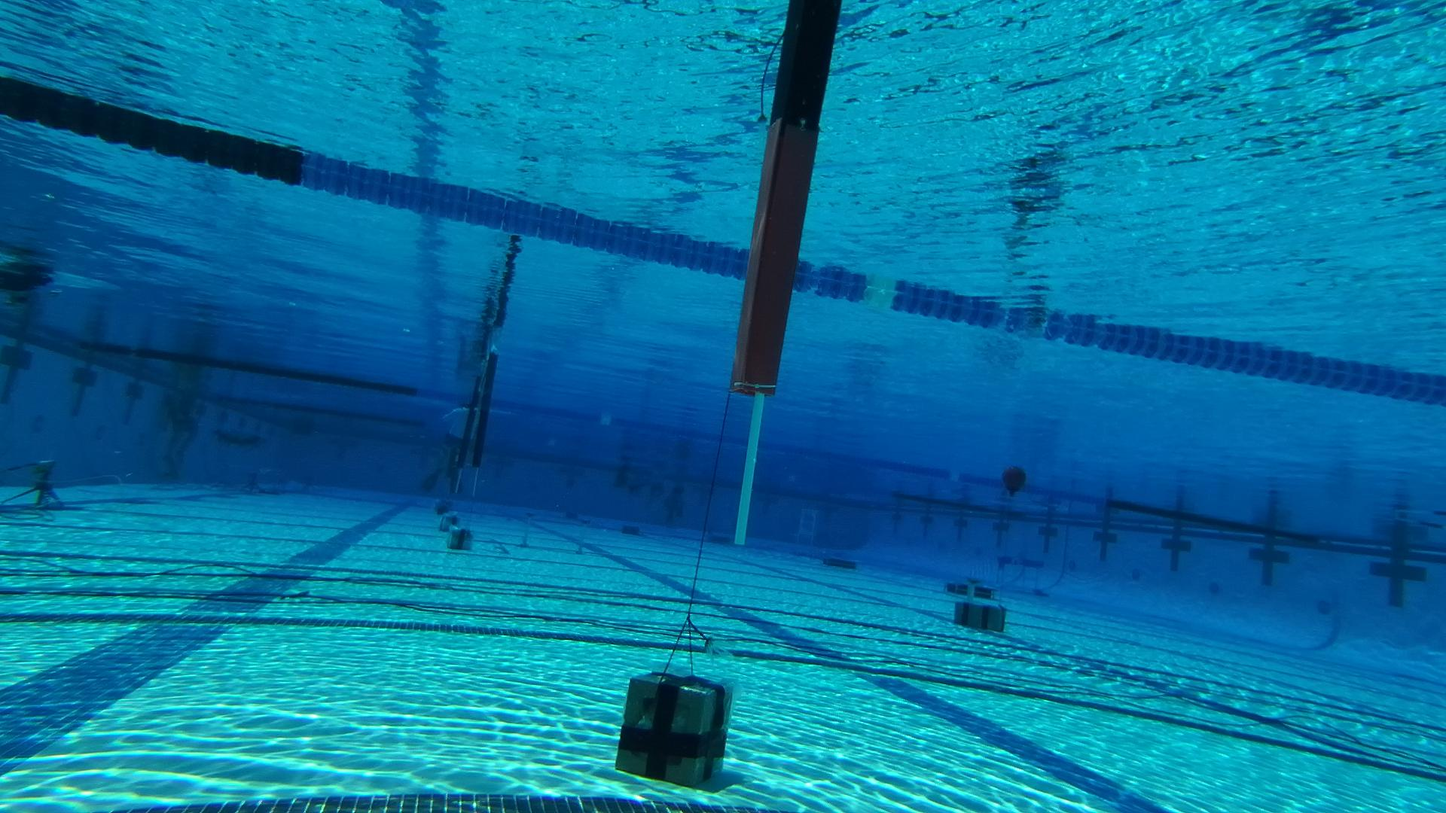buoy: (1000, 464, 1027, 495)
coral-box-side: (996, 556, 1044, 596)
dropper-box-side: (946, 582, 996, 599), (823, 558, 857, 569)
path: (519, 510, 590, 556)
red octagon: (803, 514, 809, 521), (809, 516, 814, 523), (802, 522, 807, 528), (808, 526, 813, 531)
